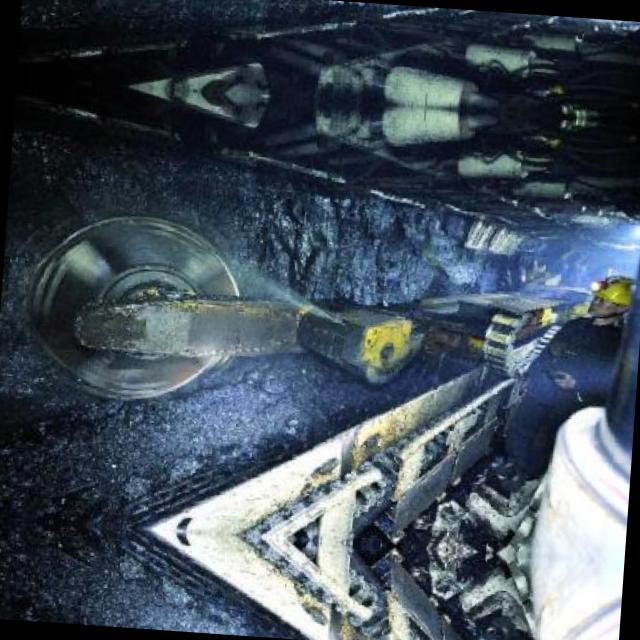helmet: (588, 272, 635, 318)
